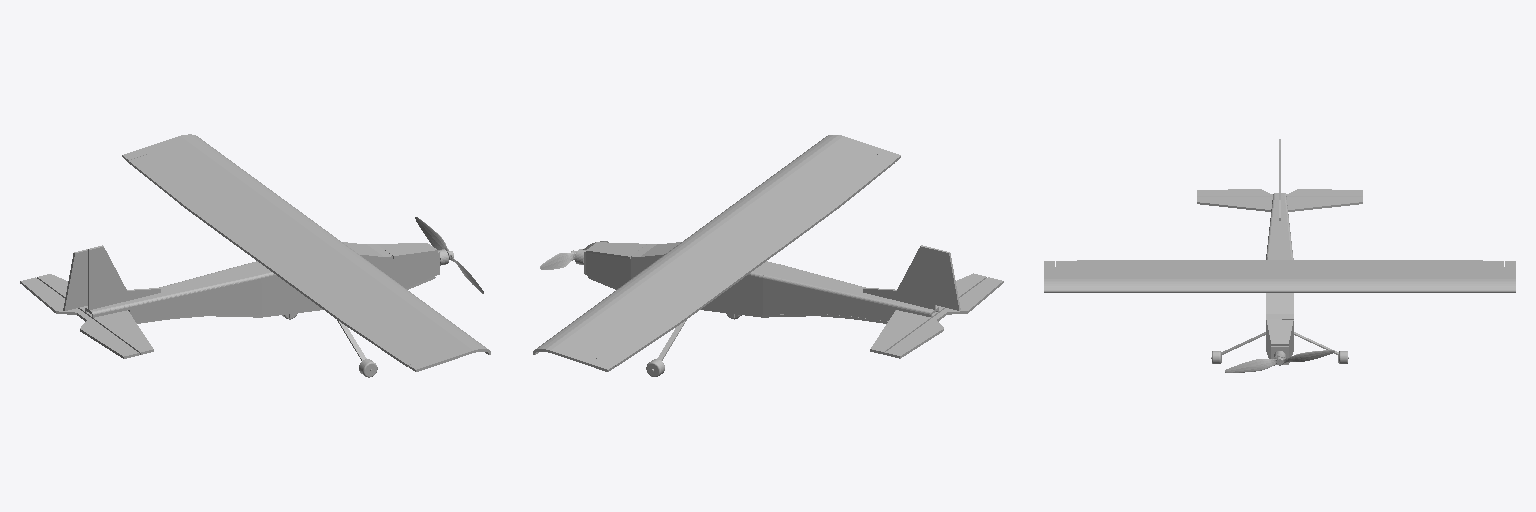
URDF robot description (yoy_trainer_v2):
<?xml version="1.0" encoding="utf-8"?>
<!-- This URDF was automatically created by SolidWorks to URDF Exporter! Originally created by Stephen Brawner (brawner@gmail.com) 
     Commit Version: 1.6.0-4-g7f85cfe  Build Version: 1.6.7995.38578
     For more information, please see http://wiki.ros.org/sw_urdf_exporter -->
<robot
  name="yoy_trainer_v2">
  <link
    name="base_link">
    <inertial>
      <origin
        xyz="-0.25152 -0.019648 -0.013068"
        rpy="0 0 0" />
      <mass
        value="0.52436" />
      <!-- Tensor de inercia tomado de SOLIDWORKS Mass Properties del ensamble
           Esamble_nuevo_aterrizaje, bloque "taken at the center of mass and
           aligned with the output coordinate system", con "Report coordinate
           values relative to: ROS_FLU".  Valores fuente, en g*mm^2:
              Lxx = 10314902.63   Lxy =   -5046.92   Lxz = -969707.04
              Lyy = 12865810.64   Lyz =    6483.67
              Lzz = 20917152.83
           Conversion: g*mm^2 -> kg*m^2 es x1e-9, y los productos cambian de
           signo porque SolidWorks reporta el producto de inercia (integral xy dm)
           mientras que el tensor del URDF usa su negativo.
           El bloque que escribio SW2URDF (ixx=0.0025201, iyy=0.00093983,
           izz=0.0033328) daba un radio de giro en cabeceo de 43 mm para un
           fuselaje de 812 mm: imposible. -->
      <inertia
        ixx="0.010314903"
        ixy="0.000005047"
        ixz="0.000969707"
        iyy="0.012865811"
        iyz="-0.000006484"
        izz="0.020917153" />
    </inertial>
    <visual>
      <origin
        xyz="0 0 0"
        rpy="0 0 0" />
      <geometry>
        <mesh
          filename="../meshes/base_link.STL" />
      </geometry>
      <material
        name="">
        <color
          rgba="0.75294 0.75294 0.75294 1" />
      </material>
    </visual>
    <!-- Colision: el fuselaje/alas SIN tren de aterrizaje (convex hull) + tres
         esferas de contacto con el suelo. Con el hull de base_link.STL completo
         el avion tocaba el suelo con el hull y su friccion lo capotaba al
         acelerar: las ruedas estan solo 31 mm por delante del CG.
         Las esferas llevan un material de baja friccion (urdf_to_usd.py) que
         hace de rodadura. Medidas sacadas de base_link.STL:
           ruedas: diametro 30 mm, centro x=-0.2206 z=-0.1301,
                   y=-0.1626 / +0.1234 (simetricas respecto al CG, y=-0.0196)
           cola:   punto de apoyo x=-0.7099 z=-0.0126 -> 15.2 deg de cabeceo
                   en reposo; la esfera sobresale 3 mm para ser el unico contacto.
         El cuerpo se regenera con scripts/make_body_collision.py. -->
    <collision name="airframe">
      <origin
        xyz="0 0 0"
        rpy="0 0 0" />
      <geometry>
        <mesh
          filename="../meshes/base_link_body_collision.STL" />
      </geometry>
    </collision>
    <collision name="wheel_right">
      <origin
        xyz="-0.2206 -0.1626 -0.1301"
        rpy="0 0 0" />
      <geometry>
        <sphere
          radius="0.015" />
      </geometry>
    </collision>
    <collision name="wheel_left">
      <origin
        xyz="-0.2206 0.1234 -0.1301"
        rpy="0 0 0" />
      <geometry>
        <sphere
          radius="0.015" />
      </geometry>
    </collision>
    <collision name="tail_contact">
      <origin
        xyz="-0.7099 -0.0196 -0.0056"
        rpy="0 0 0" />
      <geometry>
        <sphere
          radius="0.010" />
      </geometry>
    </collision>
  </link>
</robot>

--- Render facts (derived) ---
Views: 3 orthographic renders of the robot side by side, from view 1: azimuth 30°, elevation 25°; view 2: azimuth 150°, elevation 25°; view 3: azimuth 270°, elevation 25°.
Robot: yoy_trainer_v2 — 1 links, 0 joints (none); root link base_link; default pose: all joints at 0.
Visible links, largest first — view 1: base_link; view 2: base_link; view 3: base_link.
Boxes of the visible links, x1,y1,x2,y2 form: base_link: [20, 134, 490, 377]; base_link: [533, 135, 1003, 376]; base_link: [1044, 139, 1515, 372].
Size in the robot's own frame: 0.8125 by 1.06 by 0.3106 metres.
1 mesh visuals loaded from 1 distinct referenced files (1 binary STL).
